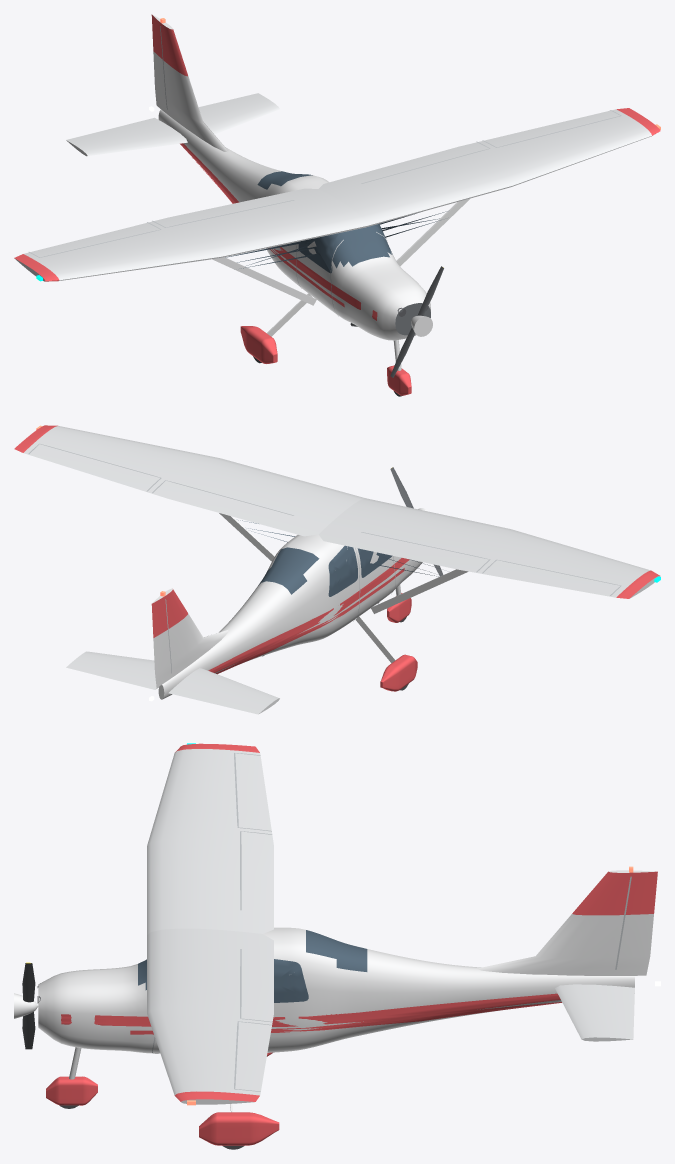
Rendered from plane-prop.glb.
The picture shows the model from 3 angles, top to bottom: view 1: azimuth 30°, elevation 25°; view 2: azimuth 150°, elevation 25°; view 3: azimuth 270°, elevation 25°; orthographic projection. The views are drawn at different scales.
Visible parts, largest first — view 1: plane-prop; view 2: plane-prop; view 3: plane-prop.
Part boxes in pixels (x1,y1,x2,y2): plane-prop: [14, 14, 660, 396]; plane-prop: [14, 425, 660, 714]; plane-prop: [14, 743, 660, 1149].
Size of the model in its own units: 11.1 by 3.46 by 8.46.
